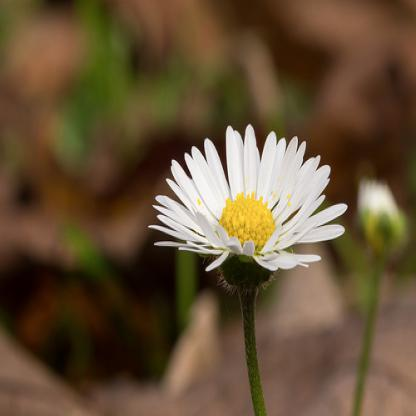ASTER: (105, 88, 378, 356)
